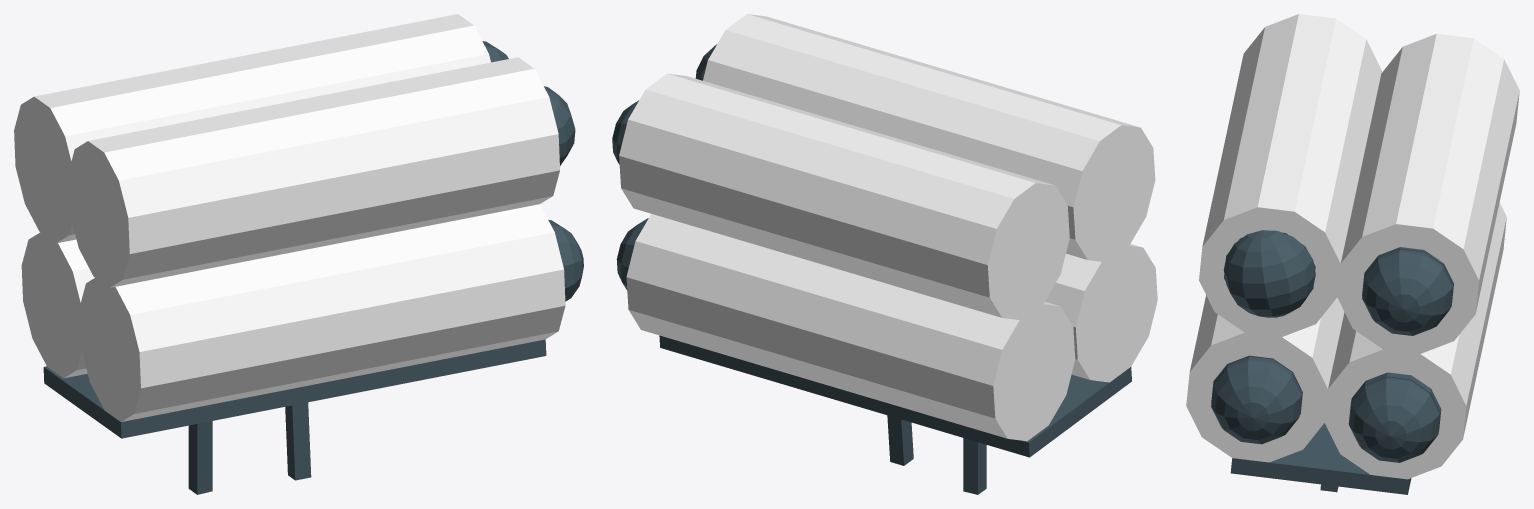
3 renders of one model, left to right at view 1: azimuth 30°, elevation 25°; view 2: azimuth 150°, elevation 25°; view 3: azimuth 270°, elevation 25°, orthographic. The views are drawn at different scales.
Visible parts, largest first — view 1: mesh_2054064609, mesh_561121979, mesh_163841177, mesh_2031138612, mesh_54801175, mesh_196339000, mesh_1541020539, mesh_895270952, mesh_584405857; view 2: mesh_163841177, mesh_54801175, mesh_2054064609, mesh_561121979, mesh_2031138612, mesh_1541020539, mesh_196339000, mesh_729389023; view 3: mesh_163841177, mesh_2054064609, mesh_54801175, mesh_561121979, mesh_584405857, mesh_895270952, mesh_654820379, mesh_729389023, mesh_2031138612, mesh_77184602.
Part boxes in pixels (x1,y1,x2,y2): mesh_2054064609: (68, 57, 559, 287); mesh_561121979: (79, 204, 565, 421); mesh_163841177: (14, 14, 490, 243); mesh_2031138612: (43, 339, 546, 438); mesh_54801175: (21, 232, 94, 378); mesh_196339000: (285, 402, 311, 480); mesh_1541020539: (188, 421, 212, 494); mesh_895270952: (548, 219, 583, 301); mesh_584405857: (544, 86, 575, 165); mesh_163841177: (619, 73, 1069, 320); mesh_54801175: (626, 214, 1075, 441); mesh_2054064609: (703, 14, 1155, 262); mesh_561121979: (1045, 244, 1157, 382); mesh_2031138612: (659, 335, 1131, 457); mesh_1541020539: (963, 438, 986, 494); mesh_196339000: (887, 415, 913, 465); mesh_729389023: (616, 218, 648, 290); mesh_163841177: (1337, 34, 1519, 353); mesh_2054064609: (1199, 14, 1381, 336); mesh_54801175: (1324, 203, 1506, 479); mesh_561121979: (1186, 295, 1344, 462); mesh_584405857: (1223, 230, 1315, 317); mesh_895270952: (1211, 356, 1302, 444); mesh_654820379: (1362, 249, 1452, 335); mesh_729389023: (1349, 377, 1439, 462); mesh_2031138612: (1230, 423, 1411, 494); mesh_77184602: (1348, 372, 1441, 435).
Bounding box in the file's own units: 61.91 × 48.68 × 39.25.
